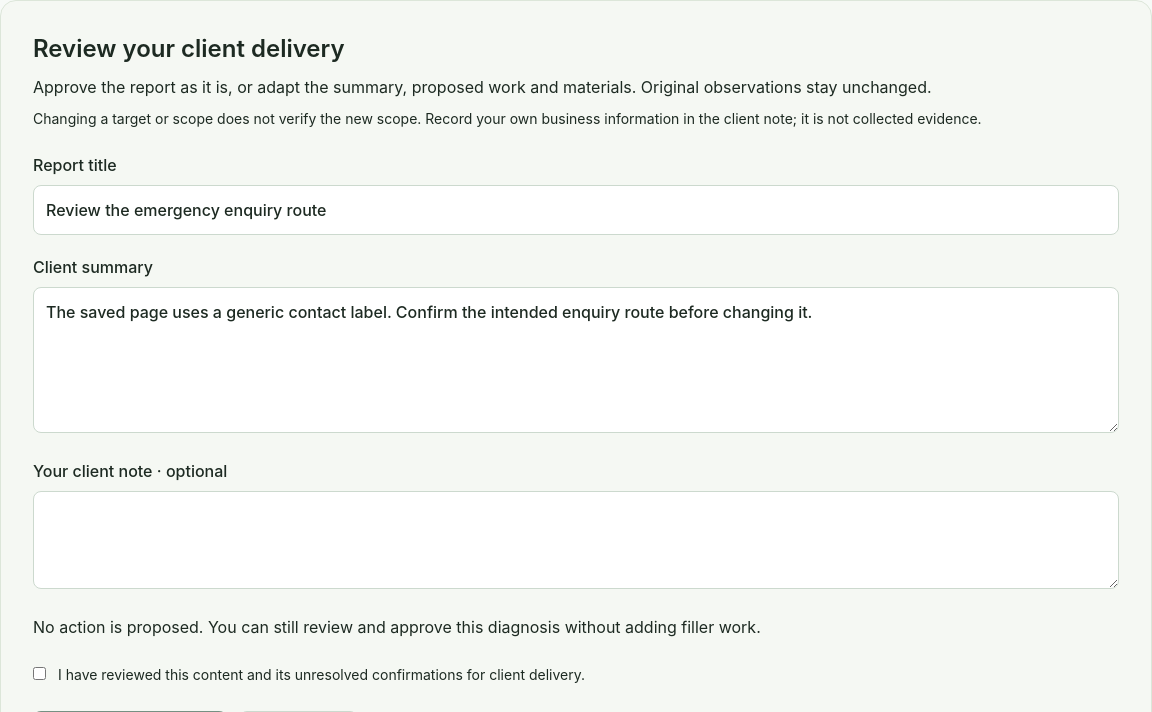
Test: Capability delivery editor › supports approval of a zero-action diagnosis
Click the checkbox.
click(40, 674)  # box [33,667,46,680]
(page scrolled)
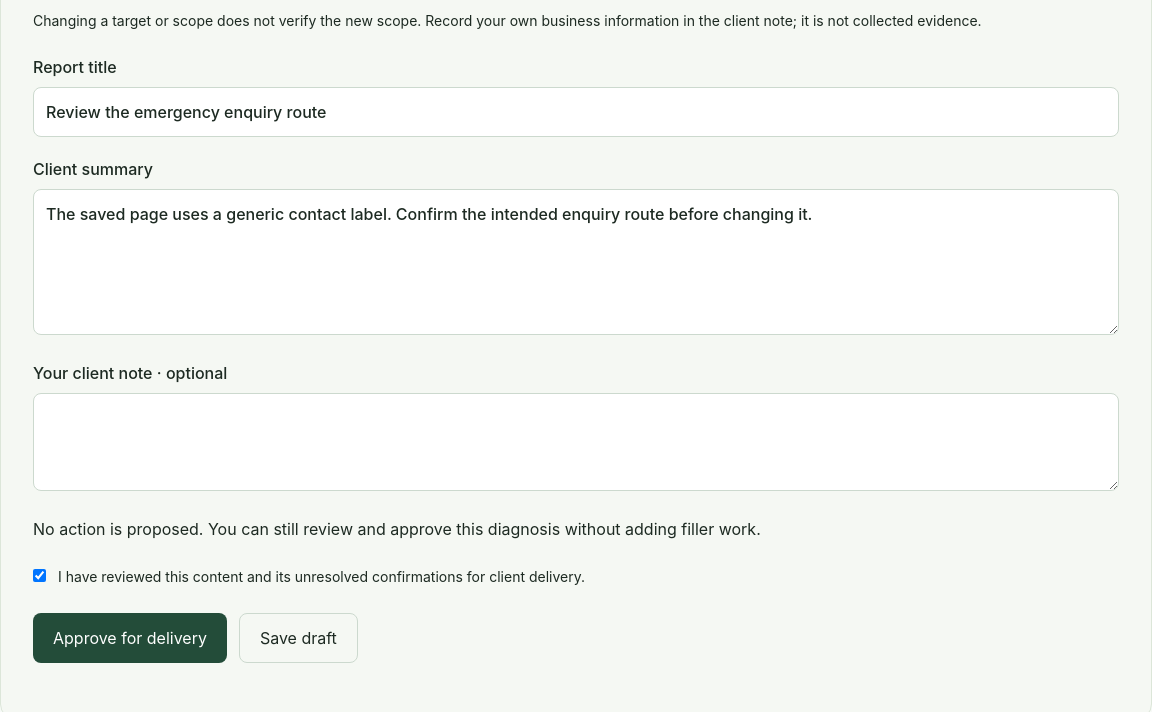
Click the button "Approve for delivery".
click(130, 638)  # box [33,613,227,663]
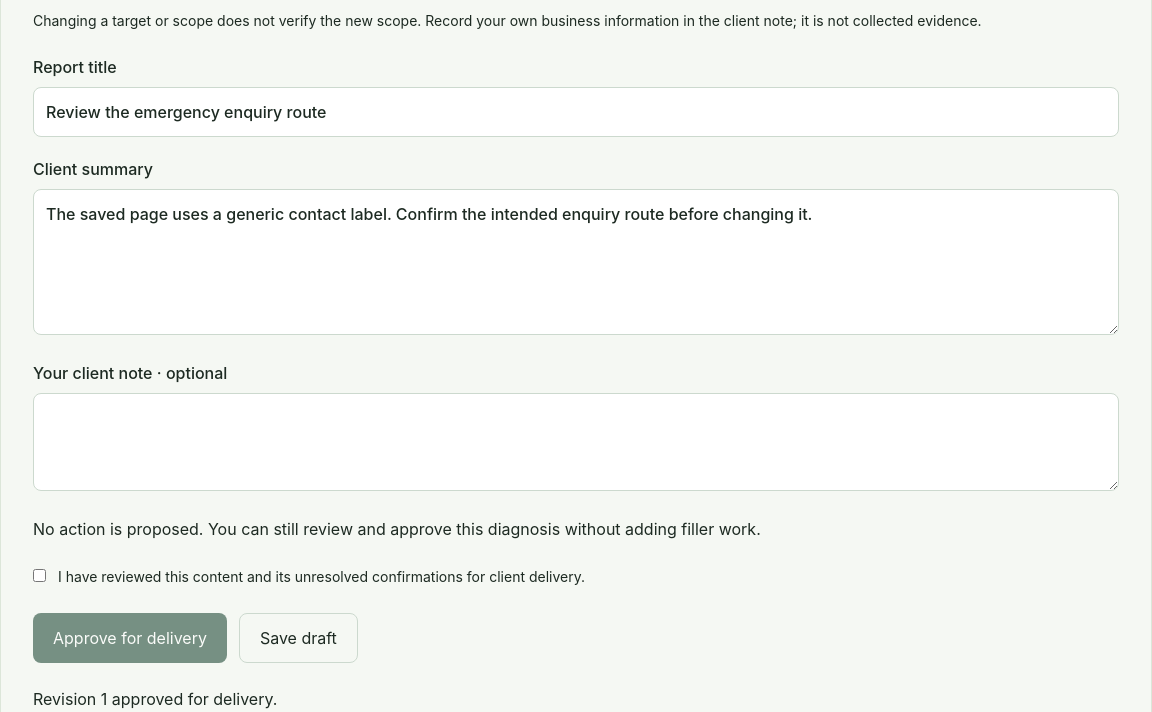
Expected: the text "Revision 1 approved for delivery." is shown, [33,689,277,709]
